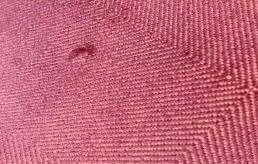knot: (66, 42, 99, 63)
